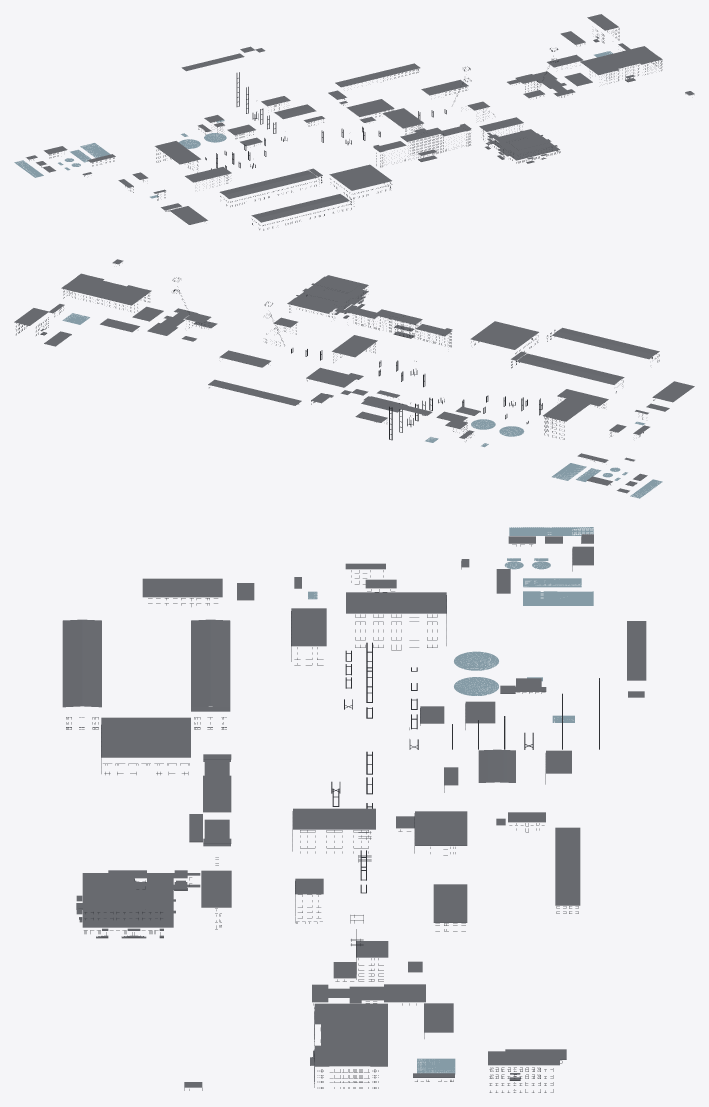
3 renders of one model, top to bottom at view 1: azimuth 30°, elevation 25°; view 2: azimuth 150°, elevation 25°; view 3: azimuth 270°, elevation 25°, orthographic. The views are drawn at different scales.
Visible parts, largest first — view 1: JZ-005, JZ-006, JZ-007; view 2: JZ-005, JZ-006, JZ-007; view 3: JZ-005, JZ-006, JZ-007.
Boxes of the visible parts, bbox=[...] form: JZ-005: bbox=[26, 14, 694, 224]; JZ-006: bbox=[29, 28, 685, 230]; JZ-007: bbox=[14, 51, 612, 198]; JZ-005: bbox=[14, 259, 694, 493]; JZ-006: bbox=[16, 264, 659, 484]; JZ-007: bbox=[62, 313, 662, 498]; JZ-005: bbox=[62, 534, 646, 1087]; JZ-006: bbox=[66, 536, 599, 1092]; JZ-007: bbox=[308, 527, 593, 1074].
Bounding box in the file's own units: 782 × 63.03 × 341.
